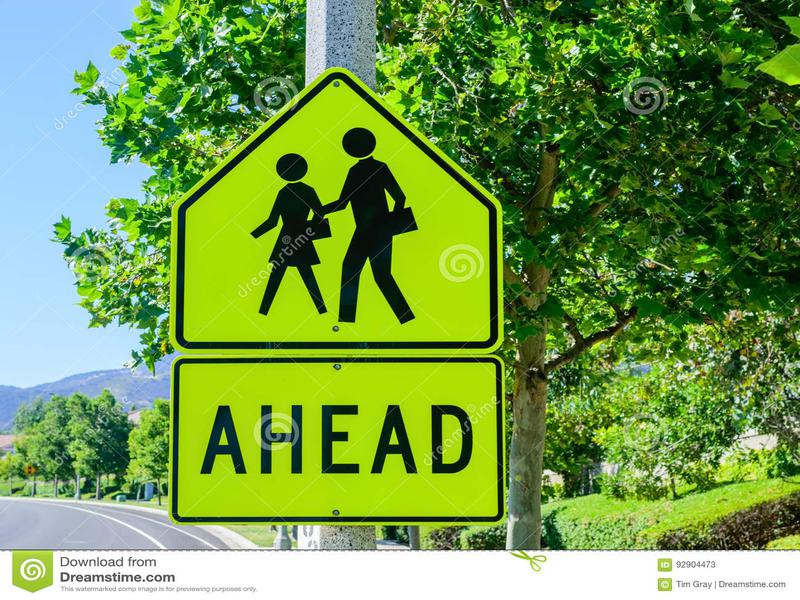slow: (159, 64, 513, 354)
